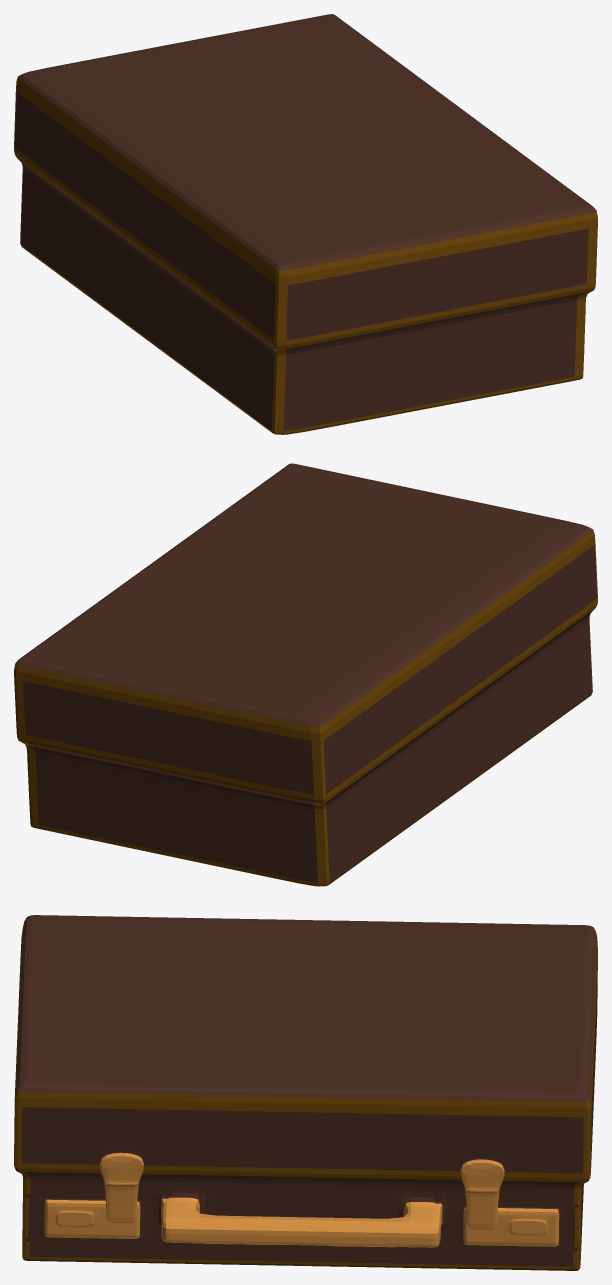
The model's file is Black_Suitcase_With_Noise.fbx.
3 views of the same model, one above another, from view 1: azimuth 30°, elevation 25°; view 2: azimuth 150°, elevation 25°; view 3: azimuth 270°, elevation 25° (orthographic). The views are drawn at different scales.
Parts seen in each view (by area): view 1: Cube.059; view 2: Cube.059; view 3: Cube.059.
Boxes of the visible parts, x1,y1,x2,y2 form: Cube.059: (14,14,597,434); Cube.059: (14,463,597,886); Cube.059: (14,915,597,1270).
Bounding box in the file's own units: 16605 × 8355 × 22162.
